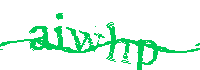a: (29, 24, 51, 52)
h: (105, 21, 131, 65)
i: (53, 12, 66, 52)
p: (135, 38, 158, 70)
w: (66, 27, 105, 54)
